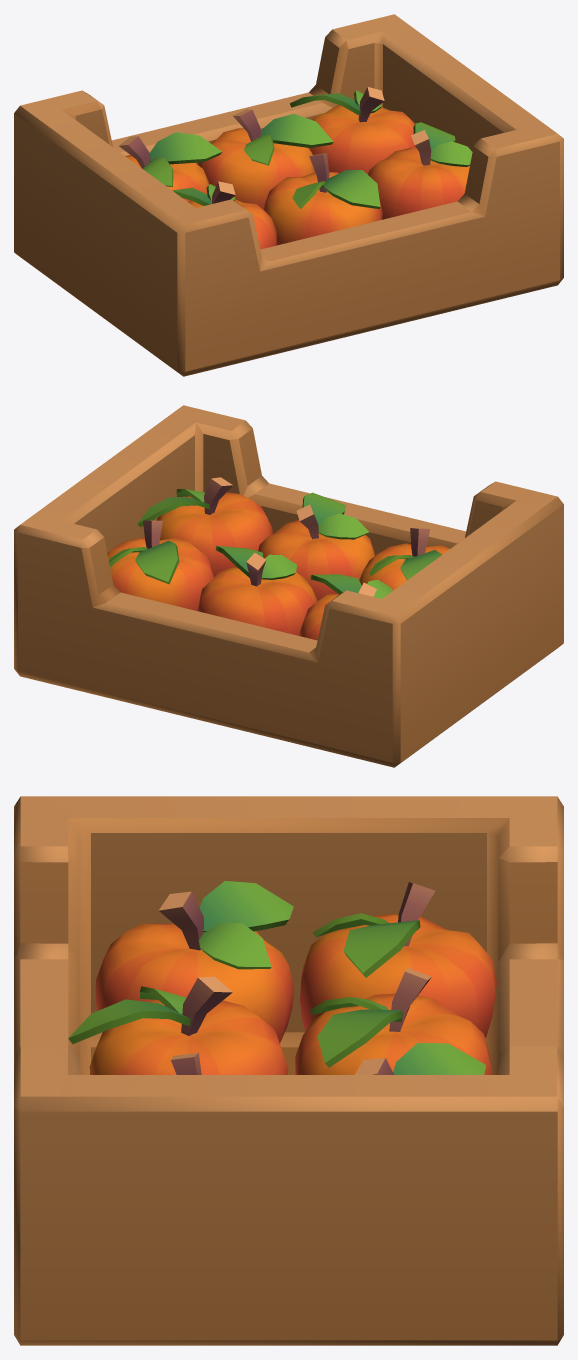
Rendered from Fruit_Crate_Apples_01.fbx.
The picture shows the model from 3 angles, top to bottom: view 1: azimuth 30°, elevation 25°; view 2: azimuth 150°, elevation 25°; view 3: azimuth 270°, elevation 25°; orthographic projection. The views are drawn at different scales.
Visible parts, largest first — view 1: Fruit_Crate_Apples_01; view 2: Fruit_Crate_Apples_01; view 3: Fruit_Crate_Apples_01.
Part boxes in pixels (x1,y1,x2,y2): Fruit_Crate_Apples_01: [14, 14, 563, 376]; Fruit_Crate_Apples_01: [14, 405, 563, 767]; Fruit_Crate_Apples_01: [14, 796, 563, 1345].
Size of the model in its own units: 1.6 by 0.5992 by 1.2.
